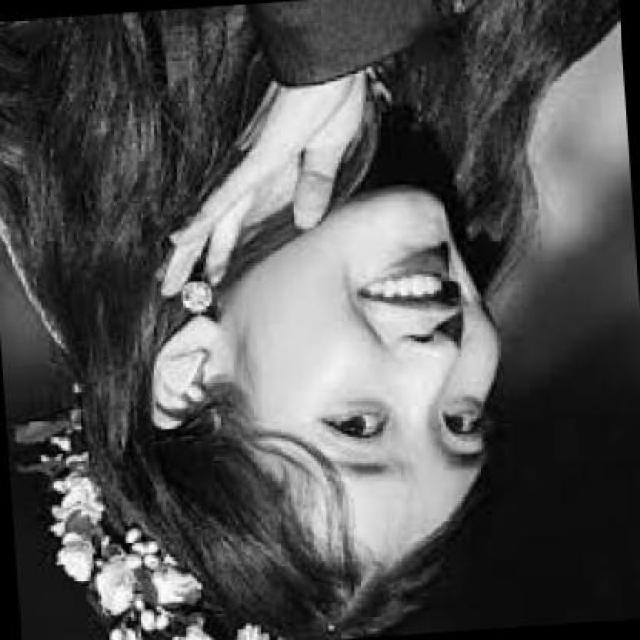earphone: (144, 326, 228, 407)
